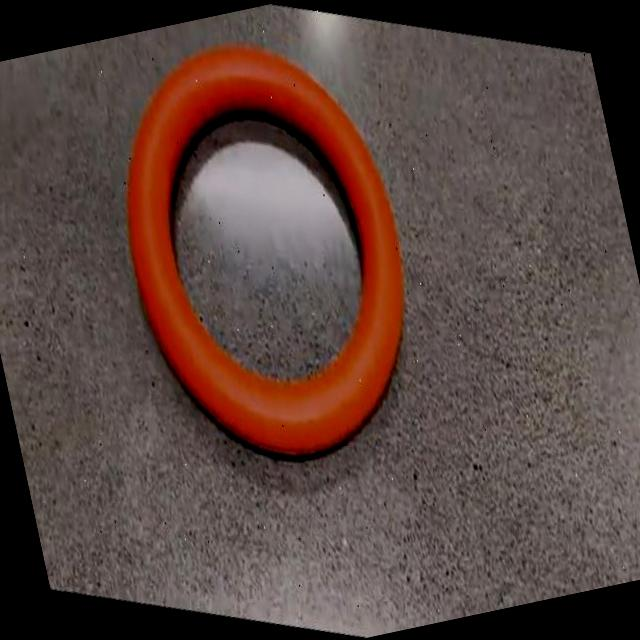note: (127, 44, 403, 454)
